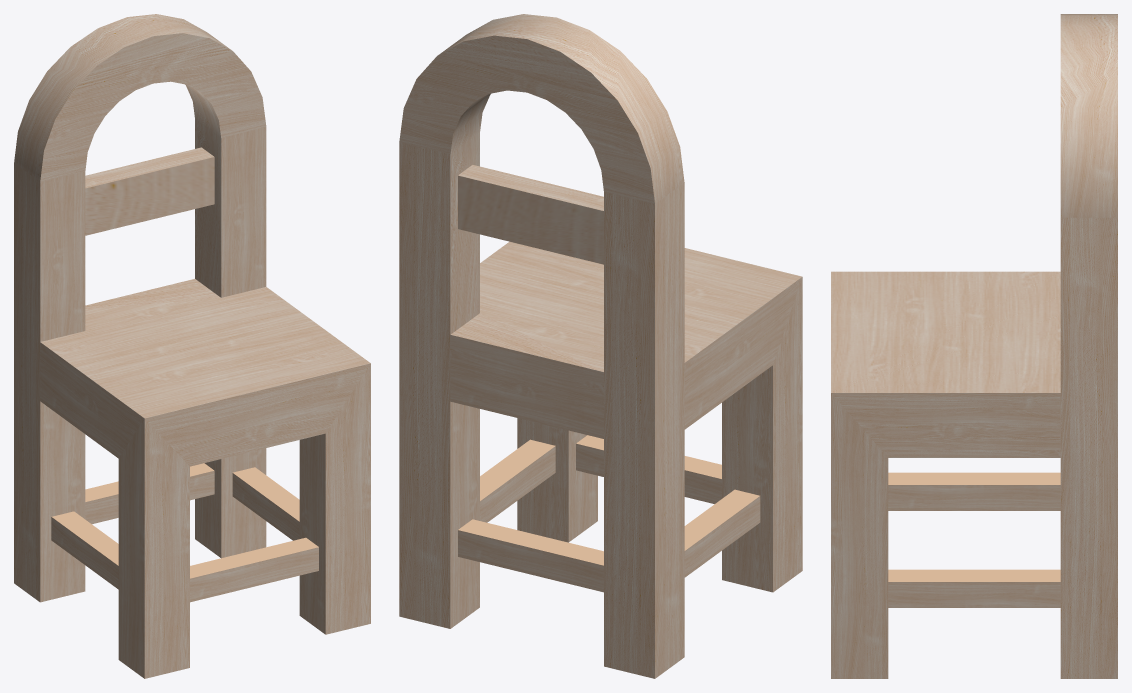
The model's file is sedia-texture.glb.
3 renders of one model, left to right at view 1: azimuth 30°, elevation 25°; view 2: azimuth 150°, elevation 25°; view 3: azimuth 270°, elevation 25°, orthographic. The views are drawn at different scales.
Parts seen in each view (by area): view 1: chairRounded(Clone); view 2: chairRounded(Clone); view 3: chairRounded(Clone).
Part boxes in pixels (box(x1,y1,x2,y2)): chairRounded(Clone): box(14, 14, 370, 678); chairRounded(Clone): box(399, 14, 802, 678); chairRounded(Clone): box(831, 14, 1117, 678).
Bounding box in the file's own units: 0.2 × 0.455 × 0.2.
2 materials, 1 textured.
